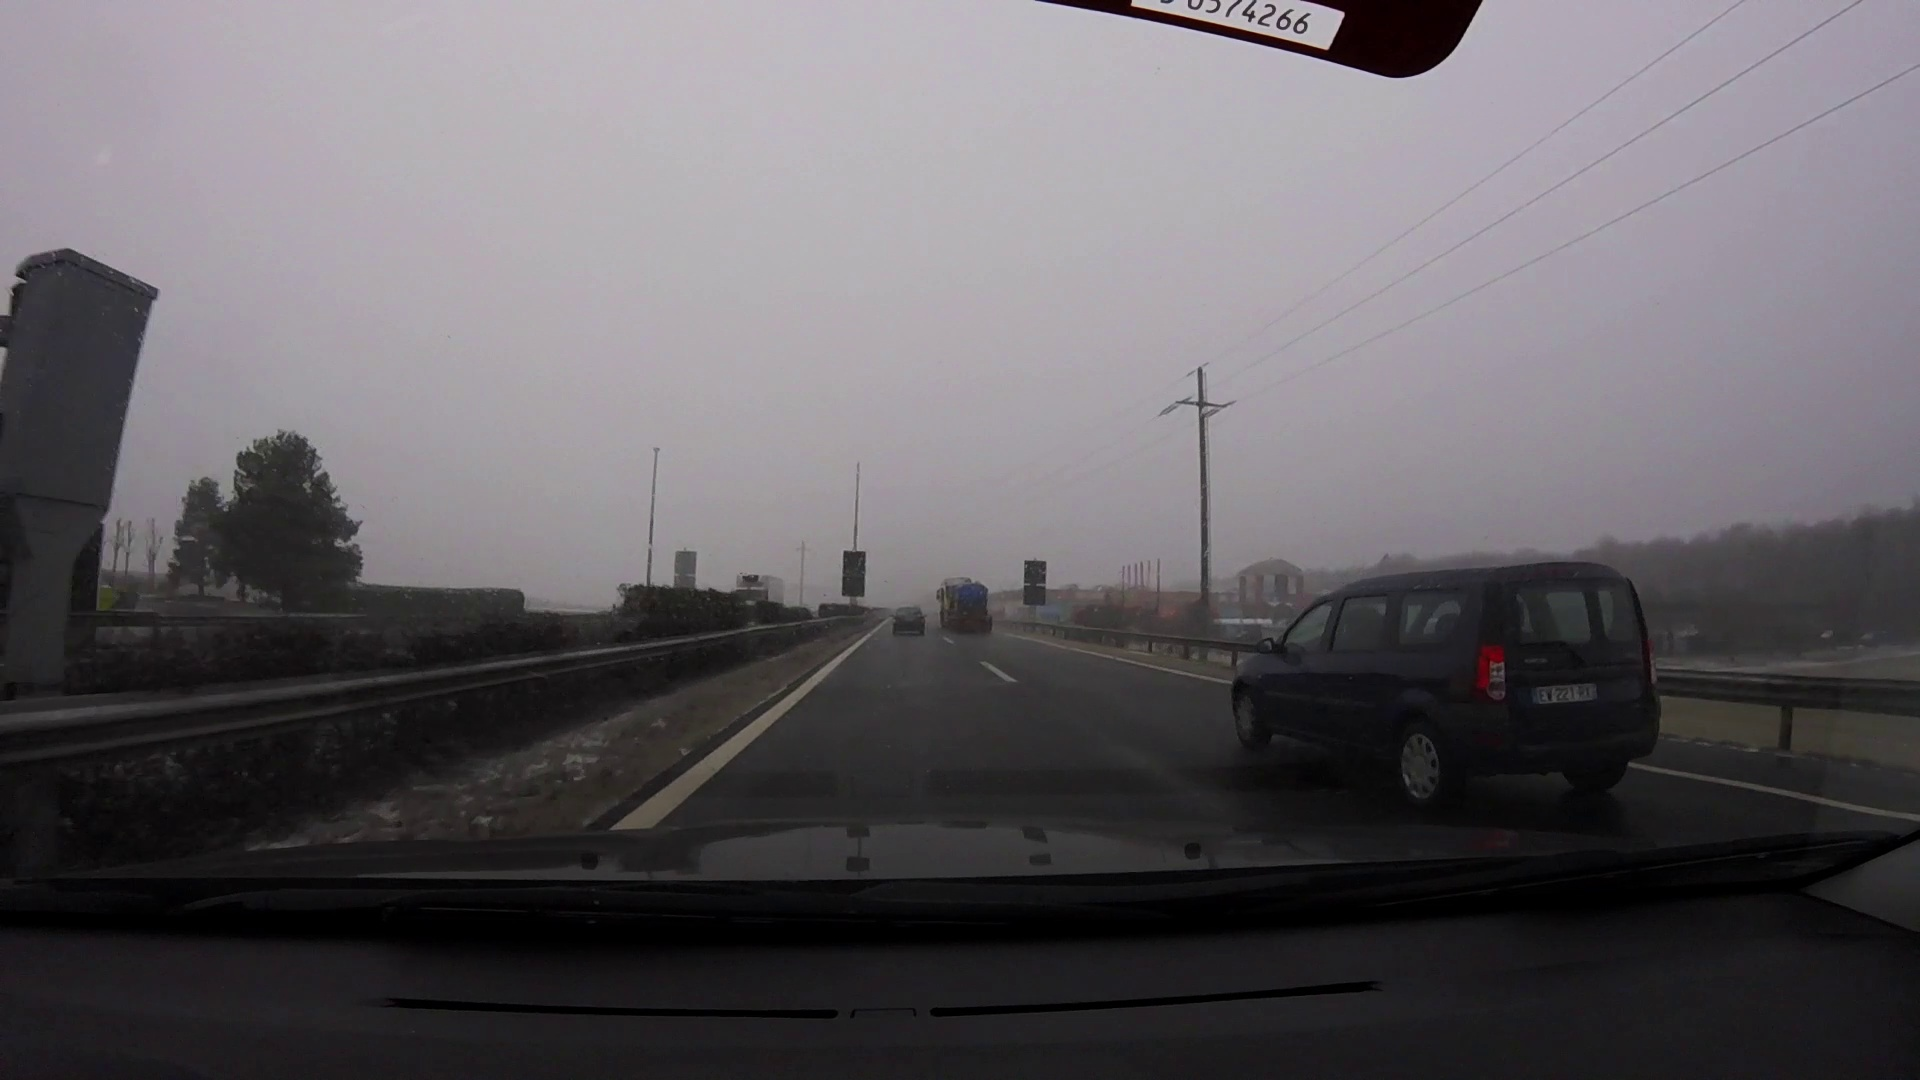radar: (1, 247, 164, 571)
